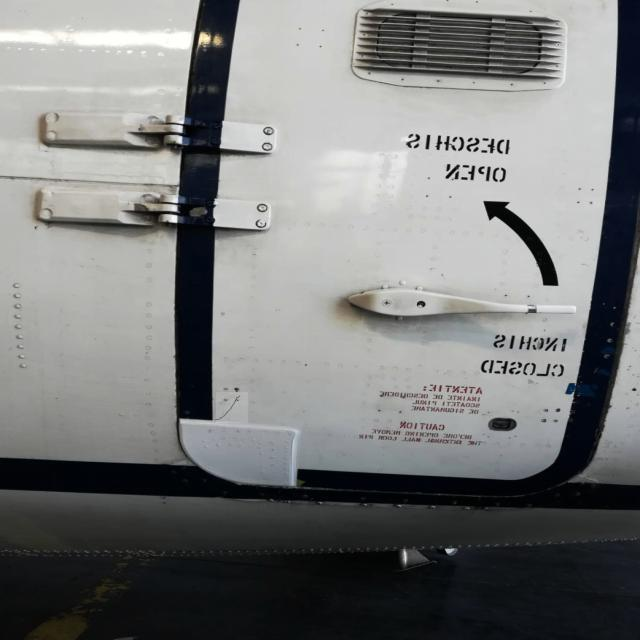crack: (217, 393, 250, 424)
